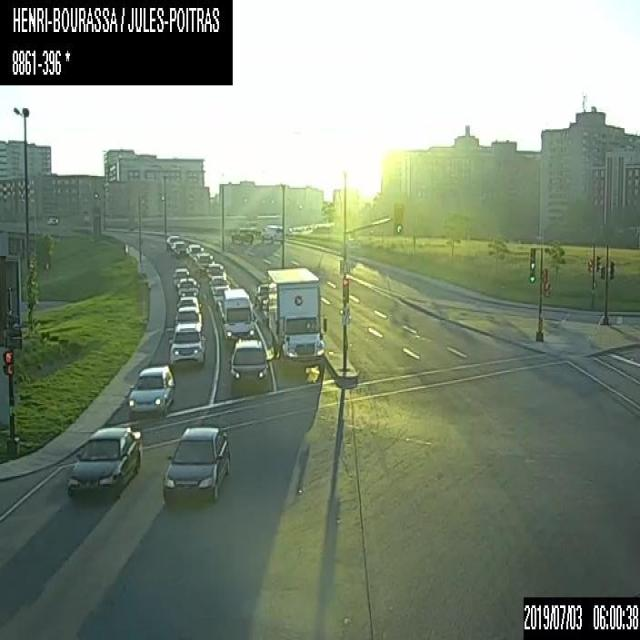vehicle: (266, 267, 326, 372), (67, 424, 142, 501), (162, 425, 231, 503), (128, 364, 174, 416), (216, 288, 256, 345), (228, 337, 268, 391), (167, 321, 206, 366), (174, 304, 203, 326), (260, 222, 282, 242), (193, 251, 212, 273), (177, 278, 200, 296), (209, 275, 228, 294), (172, 266, 190, 286), (210, 286, 230, 304), (175, 294, 201, 307), (205, 262, 225, 278), (231, 230, 253, 242), (171, 240, 187, 256), (186, 243, 202, 257), (166, 234, 180, 248), (46, 216, 58, 223)
